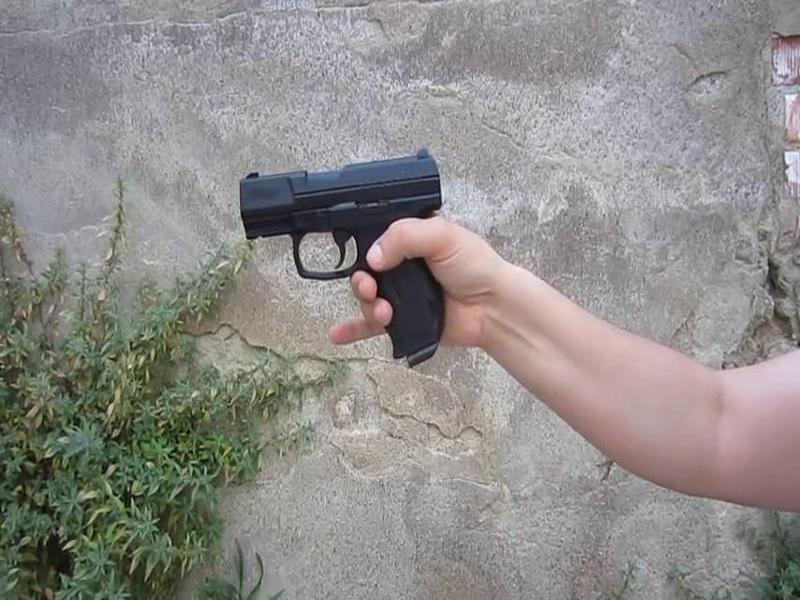Pistola: (225, 121, 490, 404)
